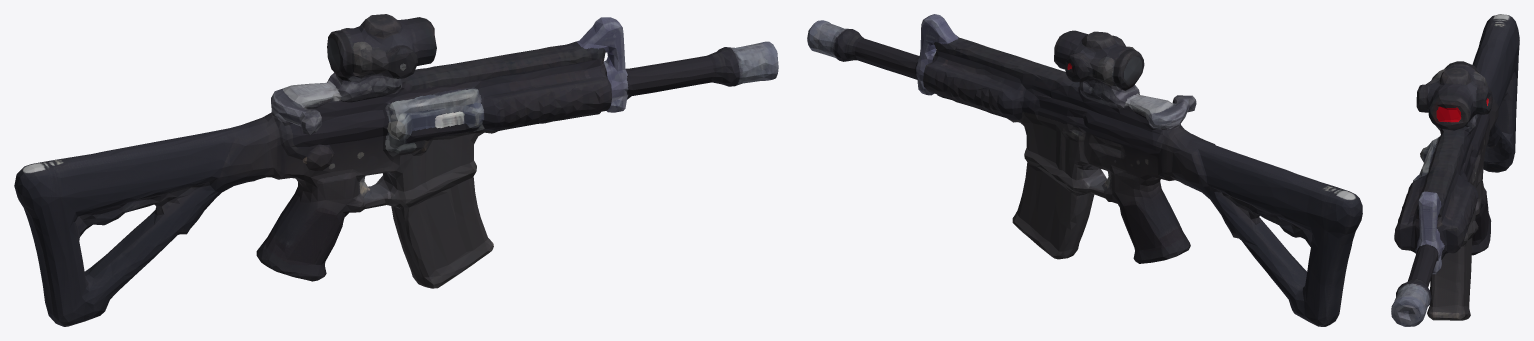
The model's file is rifle_a.fbx.
3 views of the same model, side by side, from view 1: azimuth 30°, elevation 25°; view 2: azimuth 150°, elevation 25°; view 3: azimuth 270°, elevation 25° (orthographic). The views are drawn at different scales.
Parts seen in each view (by area): view 1: Mesh_0; view 2: Mesh_0; view 3: Mesh_0.
Boxes of the visible parts, bbox=[...] form: Mesh_0: bbox=[14, 14, 778, 326]; Mesh_0: bbox=[807, 14, 1362, 326]; Mesh_0: bbox=[1391, 14, 1519, 326].
Size of the model in its own units: 0.6711 by 0.25 by 0.1258.
1 material, 1 textured.
